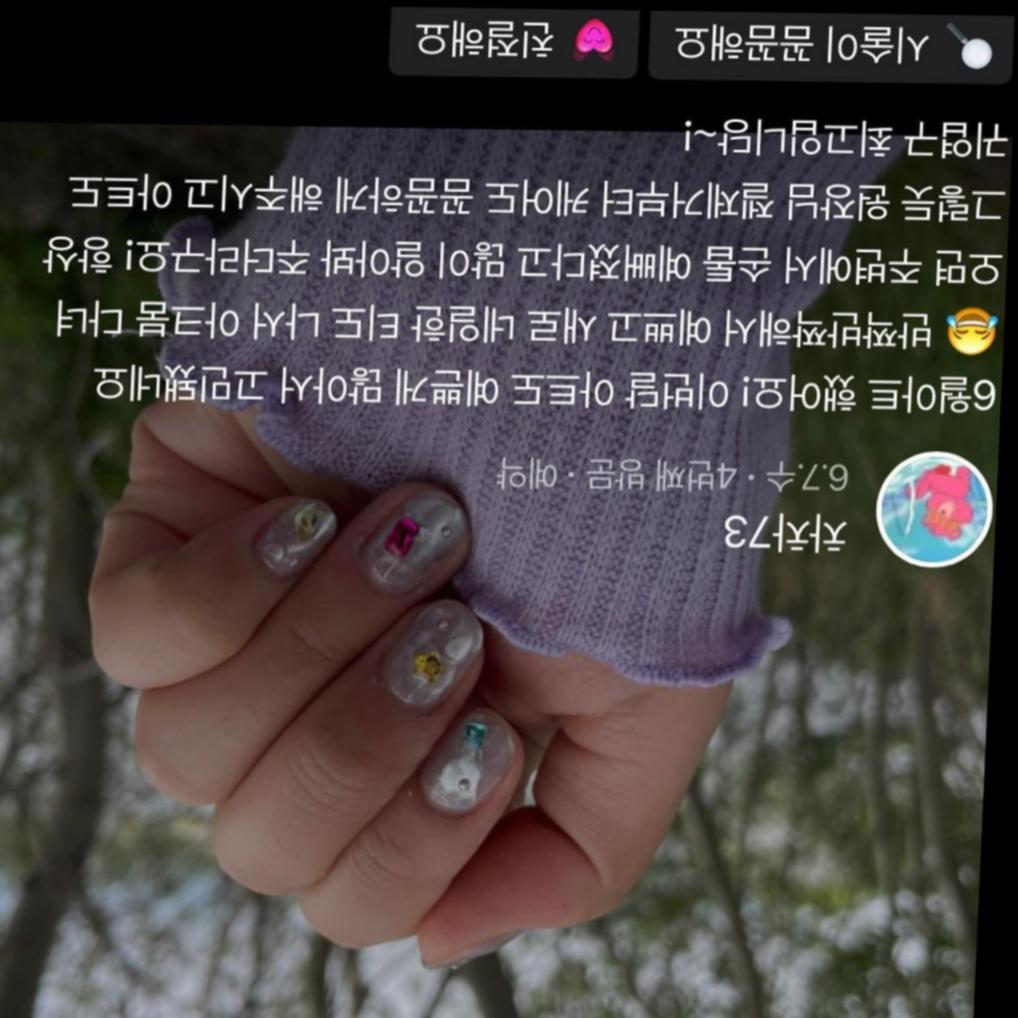nail: (358, 486, 474, 597), (379, 598, 487, 711), (419, 706, 521, 817), (251, 495, 340, 578)
